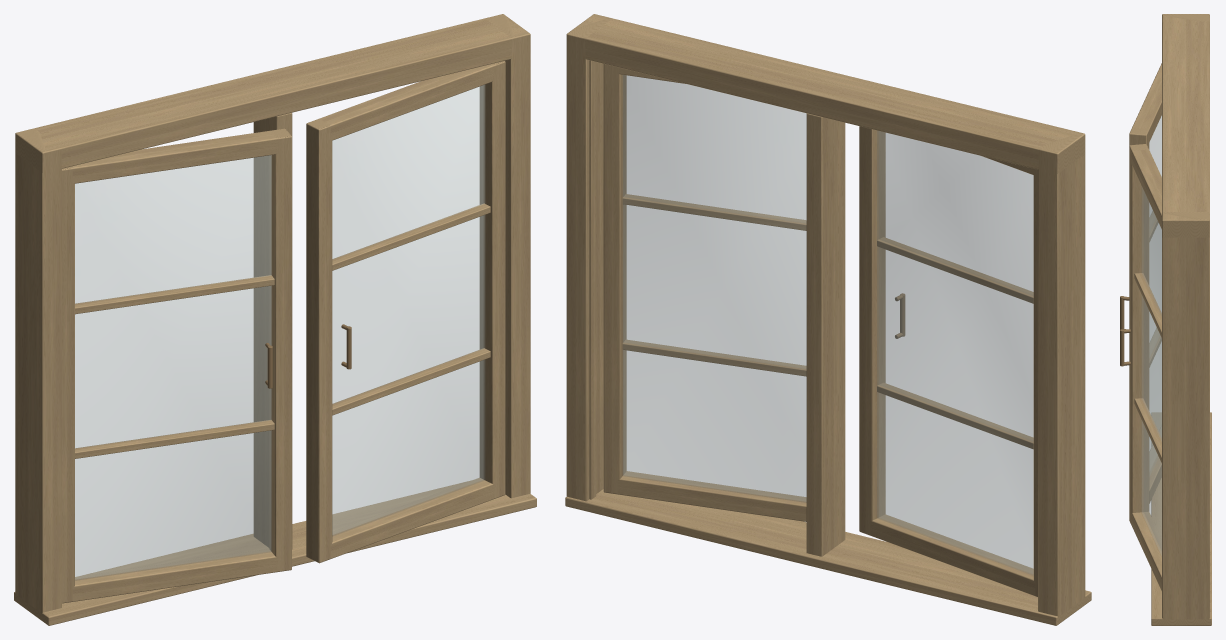
The model's file is twin-casement-window.glb.
3 views of the same model, side by side, from view 1: azimuth 30°, elevation 25°; view 2: azimuth 150°, elevation 25°; view 3: azimuth 270°, elevation 25° (orthographic). The views are drawn at different scales.
Visible parts, largest first — view 1: Sash | glass pane, Sash | glass pane.001, Frame | header, Frame | jamb, Frame | jamb.001, Sash | stile.002, Sash | stile.003, Sash | stile.001, Frame | sill, Window | centre mullion, Sash | stile, Sash | crossrail (+7 smaller); view 2: Sash | glass pane.001, Sash | glass pane, Frame | header, Frame | jamb, Window | centre mullion, Frame | sill, Frame | jamb.001, Sash | stile.001, Sash | stile.003, Sash | crossrail.002, Sash | crossrail, Frame | door stop.001 (+5 smaller); view 3: Frame | jamb.001, Frame | header, Sash | stile.002, Sash | glass pane.001, Sash | glass pane, Frame | sill, Sash | crossrail.003, Sash | crossrail.002, Sash | crossrail.001, Sash | glazing crossbar.002, Sash | glazing crossbar.003, Sash | crossrail (+6 smaller).
Part boxes in pixels (x1,y1,x2,y2): Sash | glass pane: [75, 155, 271, 580]; Sash | glass pane.001: [332, 85, 484, 535]; Frame | header: [15, 18, 530, 172]; Frame | jamb: [15, 128, 61, 620]; Frame | jamb.001: [485, 14, 530, 498]; Sash | stile.002: [306, 119, 332, 563]; Sash | stile.003: [479, 61, 505, 498]; Sash | stile.001: [269, 128, 291, 572]; Frame | sill: [14, 480, 536, 625]; Window | centre mullion: [253, 113, 292, 549]; Sash | stile: [62, 166, 74, 603]; Sash | crossrail: [72, 549, 278, 601]; Sash | glass pane.001: [623, 75, 806, 502]; Sash | glass pane: [877, 131, 1033, 575]; Frame | header: [567, 14, 1085, 173]; Frame | jamb: [1038, 132, 1085, 624]; Window | centre mullion: [806, 113, 845, 556]; Frame | sill: [565, 489, 1091, 625]; Frame | jamb.001: [566, 17, 612, 501]; Sash | stile.001: [859, 126, 885, 535]; Sash | stile.003: [603, 64, 626, 494]; Sash | crossrail.002: [617, 471, 806, 521]; Sash | crossrail: [870, 514, 1035, 595]; Frame | door stop.001: [589, 60, 596, 499]; Frame | jamb.001: [1162, 212, 1209, 625]; Frame | header: [1162, 14, 1209, 237]; Sash | stile.002: [1129, 144, 1149, 524]; Sash | glass pane.001: [1142, 188, 1161, 555]; Sash | glass pane: [1149, 116, 1161, 471]; Frame | sill: [1151, 412, 1211, 625]; Sash | crossrail.003: [1131, 149, 1161, 229]; Sash | crossrail.002: [1131, 511, 1161, 590]; Sash | crossrail.001: [1132, 63, 1161, 141]; Sash | glazing crossbar.002: [1134, 398, 1161, 463]; Sash | glazing crossbar.003: [1134, 273, 1161, 337]; Sash | crossrail: [1149, 426, 1161, 503].
Bounding box in the file's own units: 1.33 × 1.22 × 0.2497.
4 materials, 4 textured.
